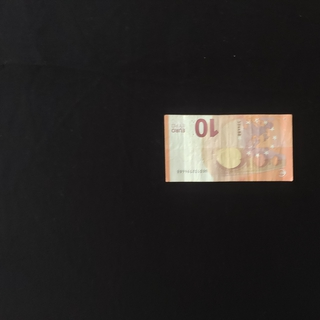10EUROBack: (163, 114, 293, 182)
